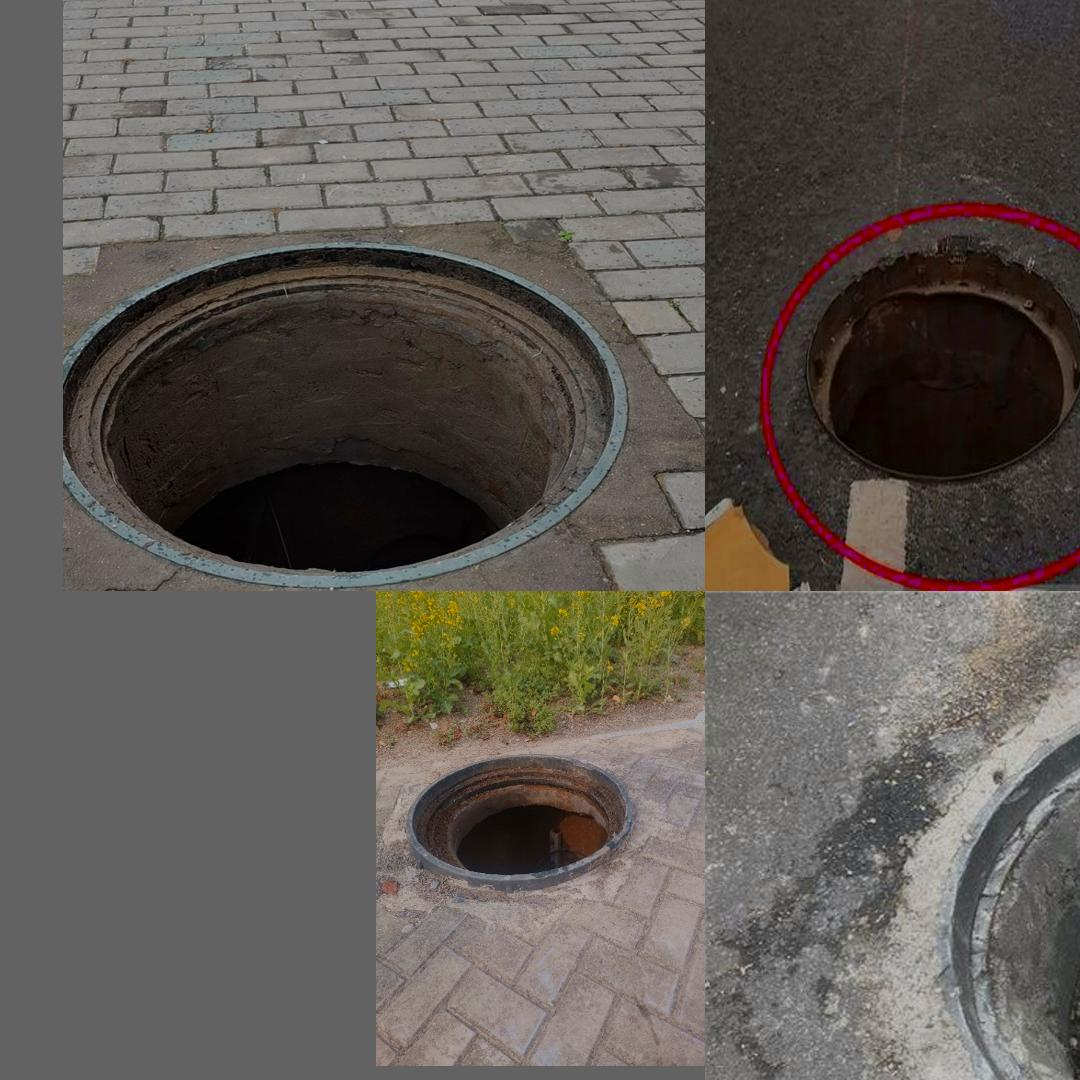lose: (63, 240, 629, 588), (886, 656, 1080, 1080), (800, 240, 1080, 468), (407, 751, 633, 889)
